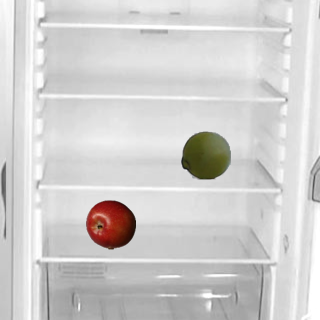Apple Braeburn: (85, 199, 135, 249)
Grape White 4: (180, 129, 230, 179)
